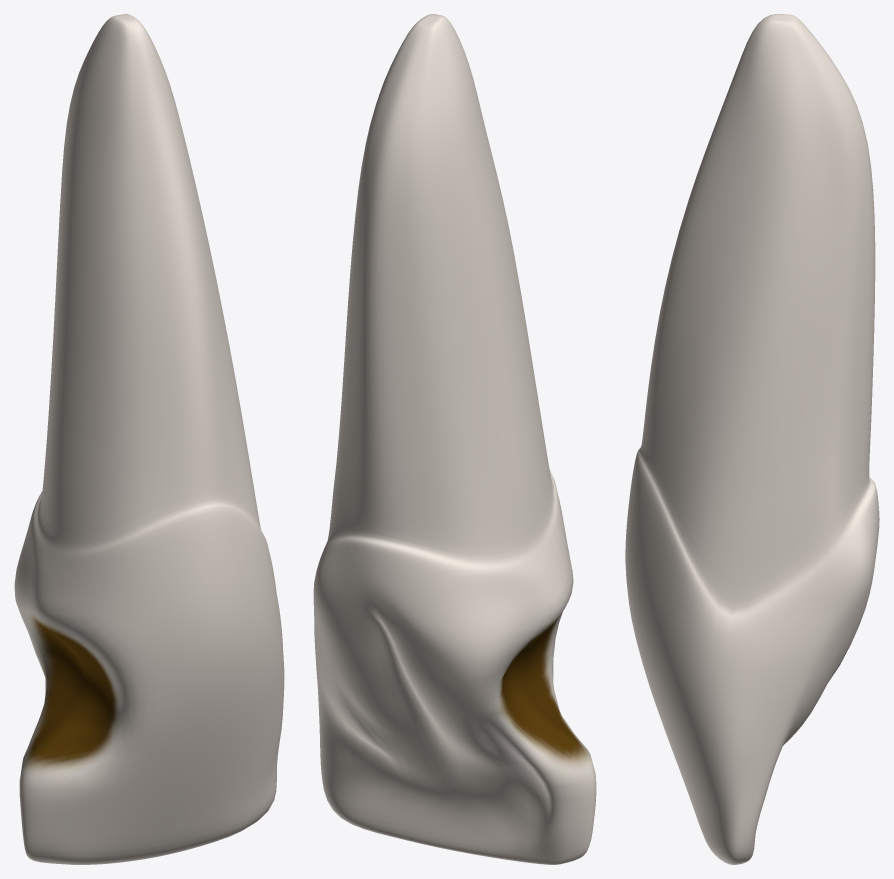
Rendered from Gigi 3.fbx.
The picture shows the model from 3 angles, left to right: view 1: azimuth 30°, elevation 25°; view 2: azimuth 150°, elevation 25°; view 3: azimuth 270°, elevation 25°; orthographic projection. The views are drawn at different scales.
Visible parts, largest first — view 1: Group35581.007; view 2: Group35581.007; view 3: Group35581.007.
Part boxes in pixels (<box>): Group35581.007: <box>14,14,284,864</box>; Group35581.007: <box>313,14,596,864</box>; Group35581.007: <box>625,14,879,864</box>.
Size of the model in its own units: 18.73 by 56.48 by 16.17.
Materials: 1 (1 with a texture image).
